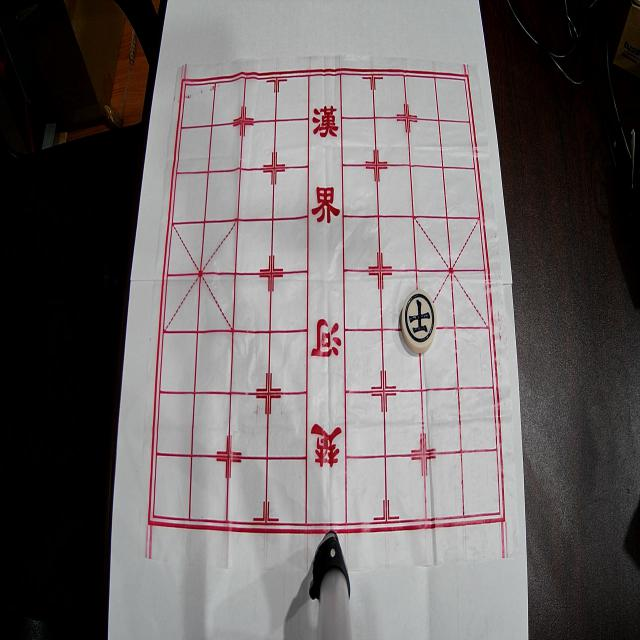black-guard: (401, 290, 437, 352)
